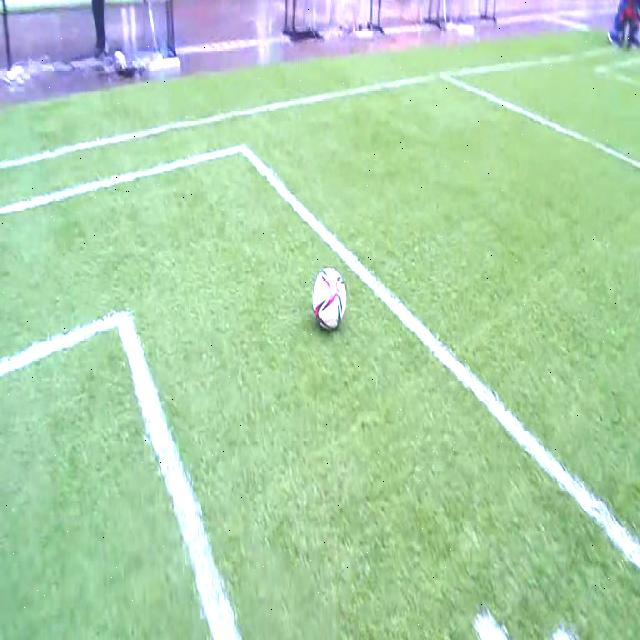ball: (313, 268, 346, 329)
